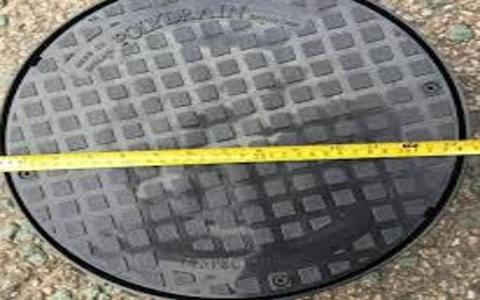proper manhole: (3, 2, 480, 296)
